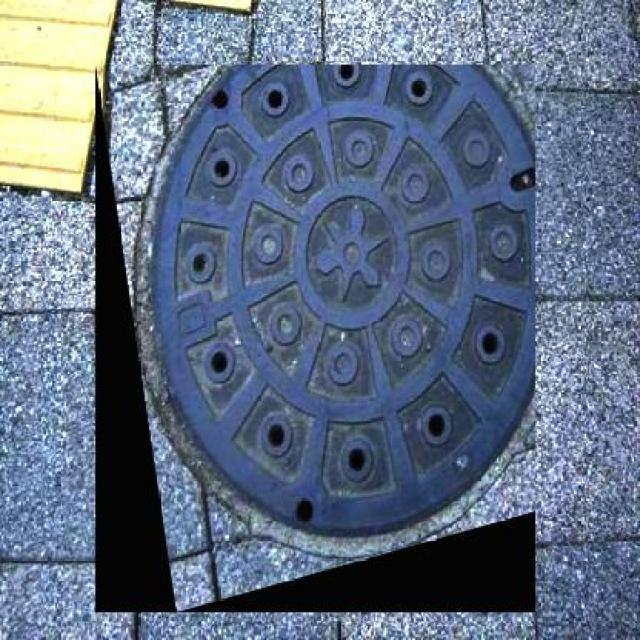Manhole: (96, 65, 536, 612)
